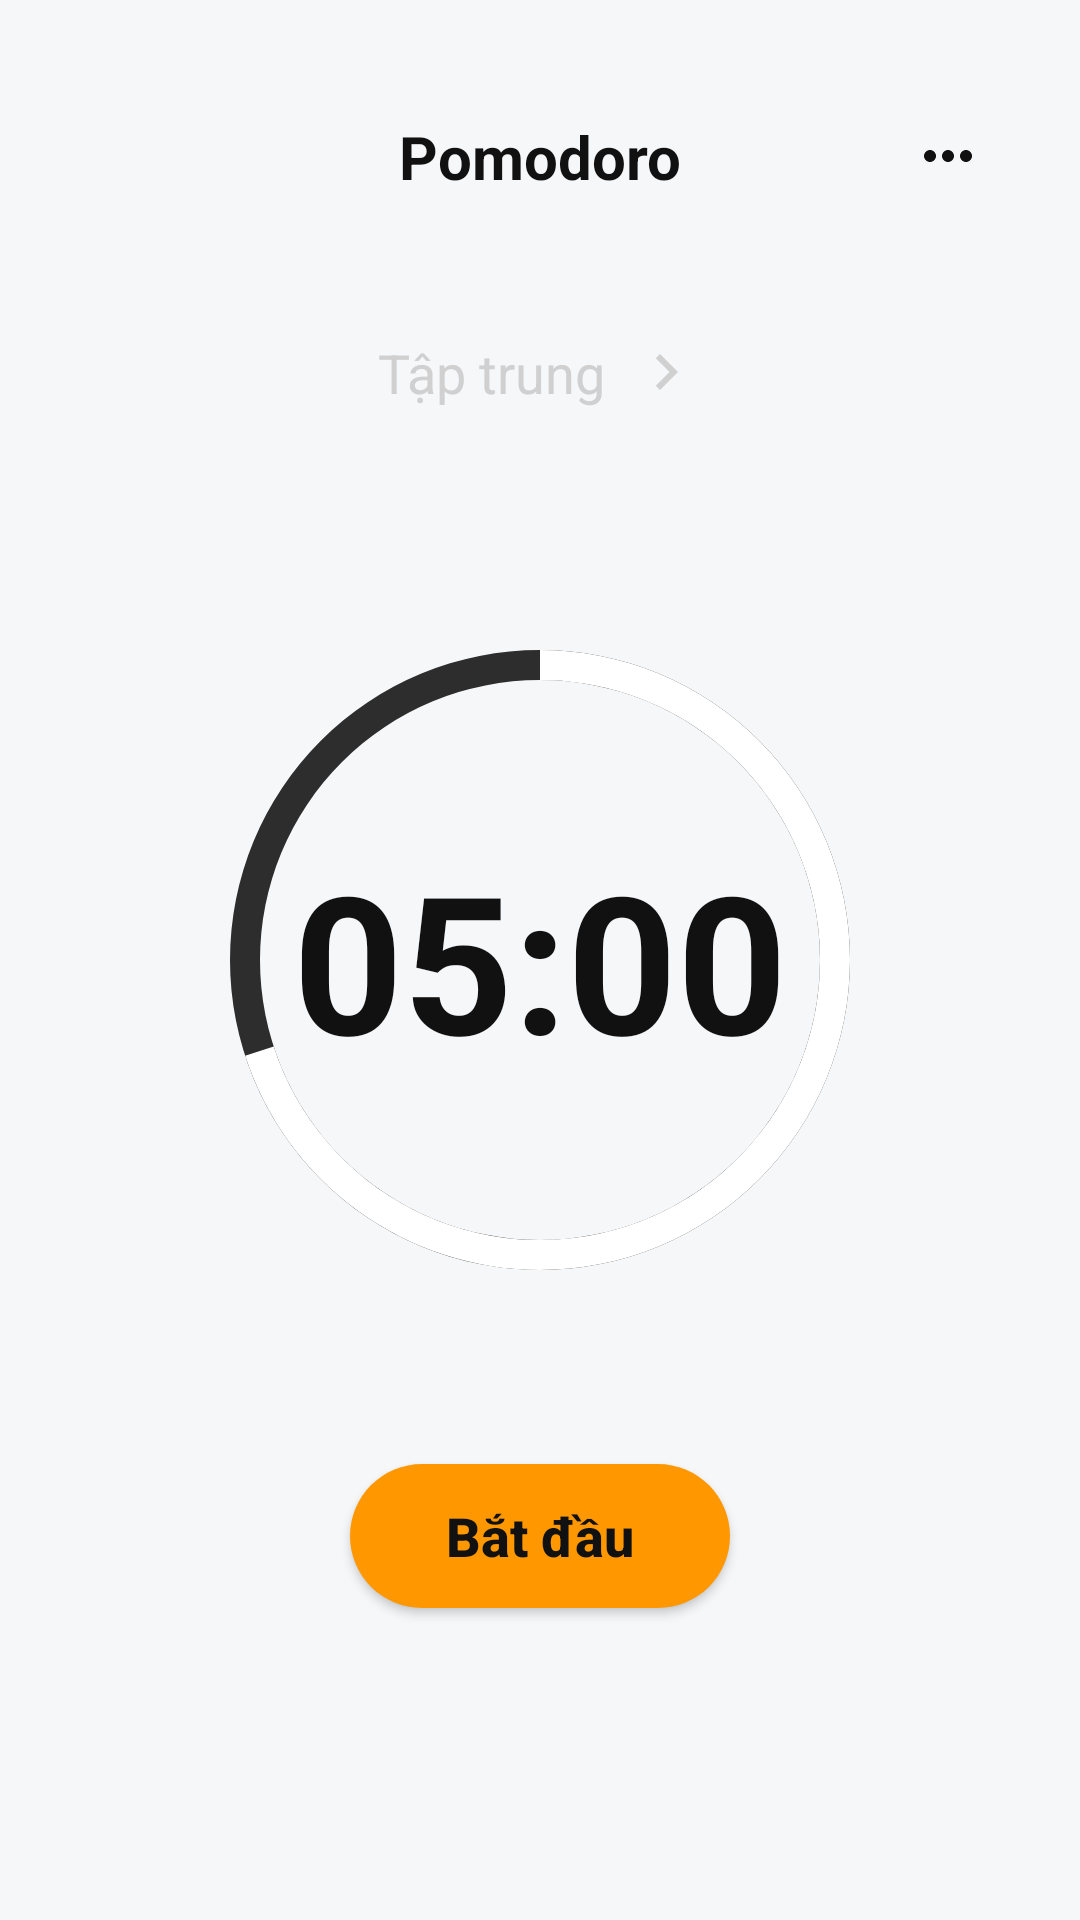

Where icons sit on this 1080 × 1920 app screen, as (x1, y1, x2, y2):
Thêm tùy chọn: (924, 150, 972, 162)
